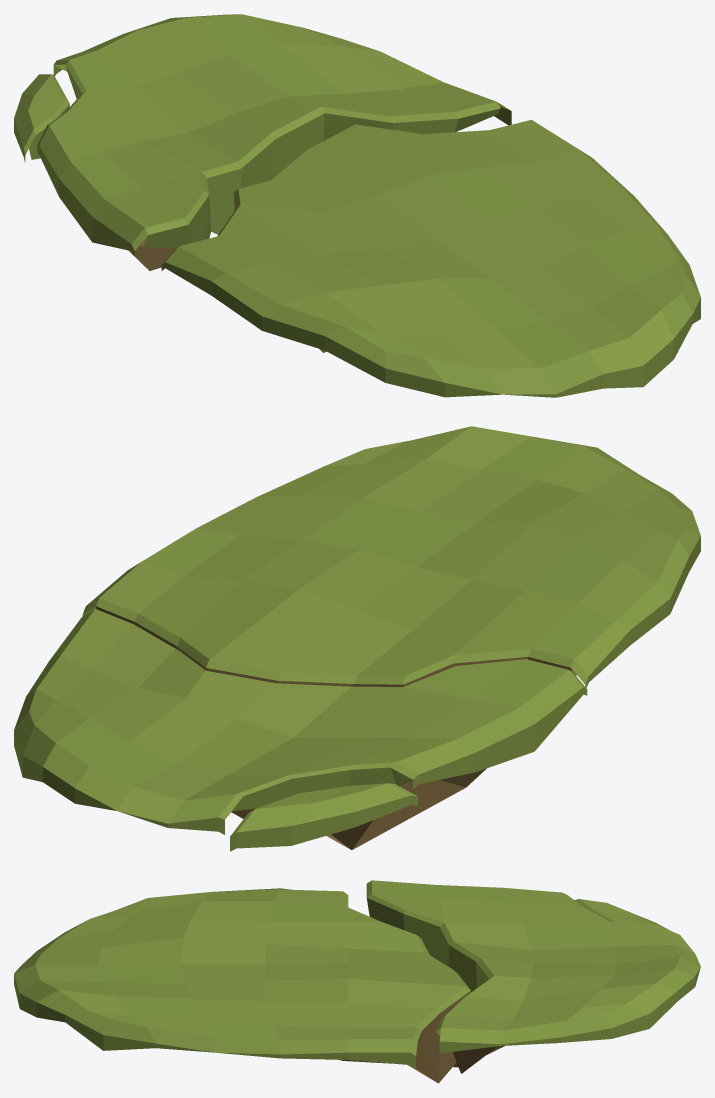
Rendered from platforme_petit2_v2.fbx.
3 renders of one model, top to bottom at view 1: azimuth 30°, elevation 25°; view 2: azimuth 150°, elevation 25°; view 3: azimuth 270°, elevation 25°, orthographic. The views are drawn at different scales.
Parts seen in each view (by area): view 1: Plane.009; view 2: Plane.009; view 3: Plane.009.
Part boxes in pixels (<box>): Plane.009: <box>14,14,700,397</box>; Plane.009: <box>14,426,700,851</box>; Plane.009: <box>14,880,700,1083</box>.
Size of the model in its own units: 257 by 86.31 by 467.
